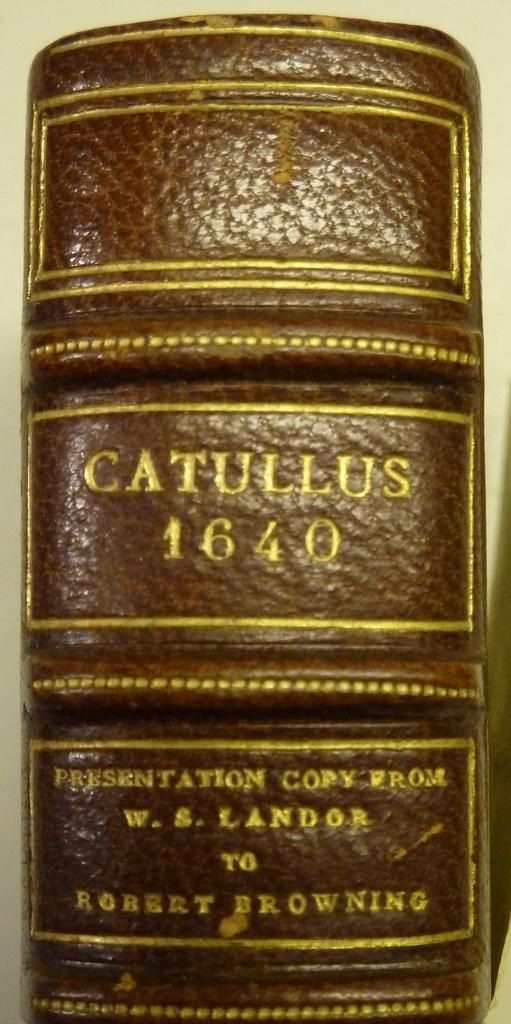book: (21, 13, 495, 1023)
